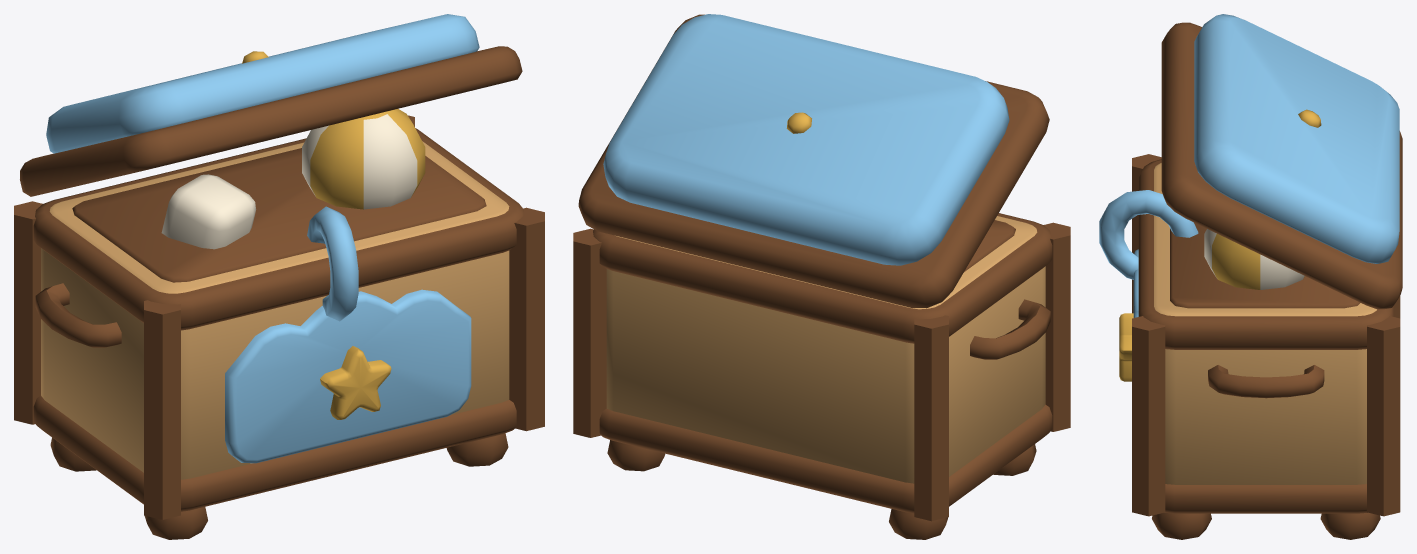
The model's file is ShopToyChest.fbx.
3 views of the same model, side by side, from view 1: azimuth 30°, elevation 25°; view 2: azimuth 150°, elevation 25°; view 3: azimuth 270°, elevation 25° (orthographic). The views are drawn at different scales.
Visible parts, largest first — view 1: ShopToyChest; view 2: ShopToyChest; view 3: ShopToyChest.
Part boxes in pixels (x1,y1,x2,y2): ShopToyChest: (14, 14, 544, 539); ShopToyChest: (573, 14, 1070, 539); ShopToyChest: (1099, 14, 1402, 539).
Bounding box in the file's own units: 0.7889 × 0.7022 × 0.5039.
